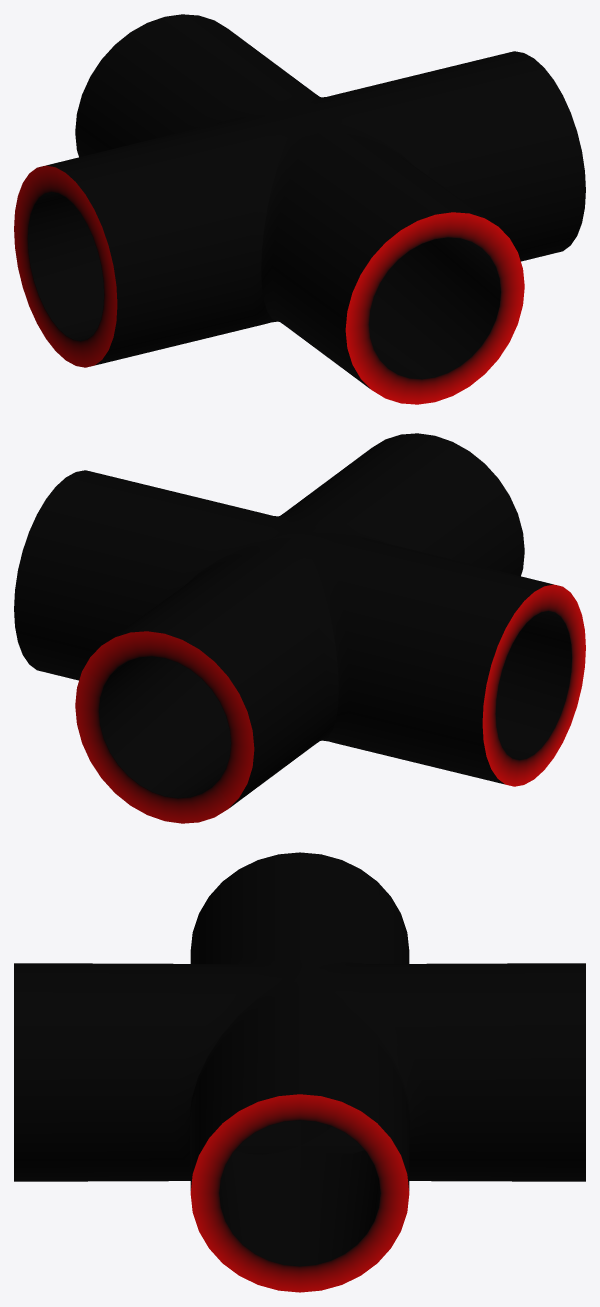
The model's file is Dungeon_Pipe_Xpipe.FBX.
3 views of the same model, one above another, from view 1: azimuth 30°, elevation 25°; view 2: azimuth 150°, elevation 25°; view 3: azimuth 270°, elevation 25° (orthographic). The views are drawn at different scales.
Visible parts, largest first — view 1: xpipe; view 2: xpipe; view 3: xpipe.
Boxes of the visible parts, x1,y1,x2,y2 form: xpipe: [14, 14, 585, 404]; xpipe: [14, 433, 585, 823]; xpipe: [14, 852, 585, 1292].
Bounding box in the file's own units: 39.44 × 15.12 × 39.43.
